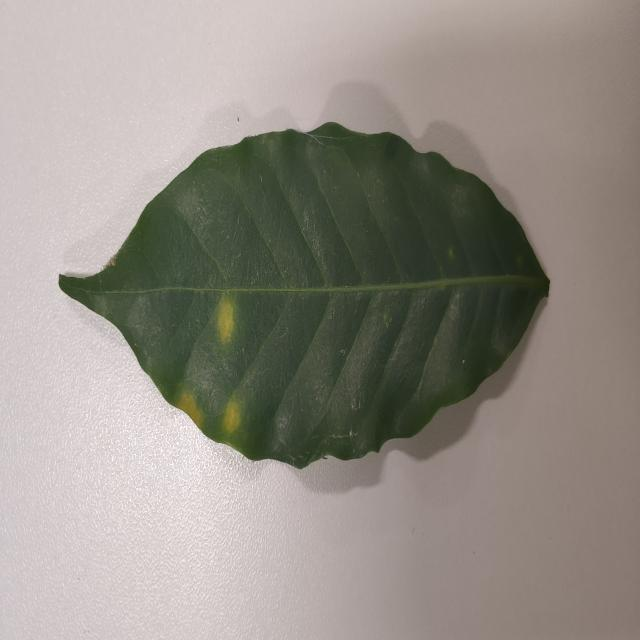Enfermedad-Roya: (56, 125, 550, 472)
